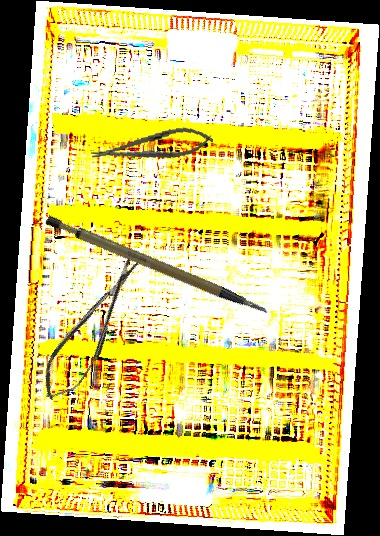Micro Scissor: (30, 249, 156, 409)
Needle Holder: (89, 122, 215, 170)
Scalpel Handle: (43, 187, 270, 348)
